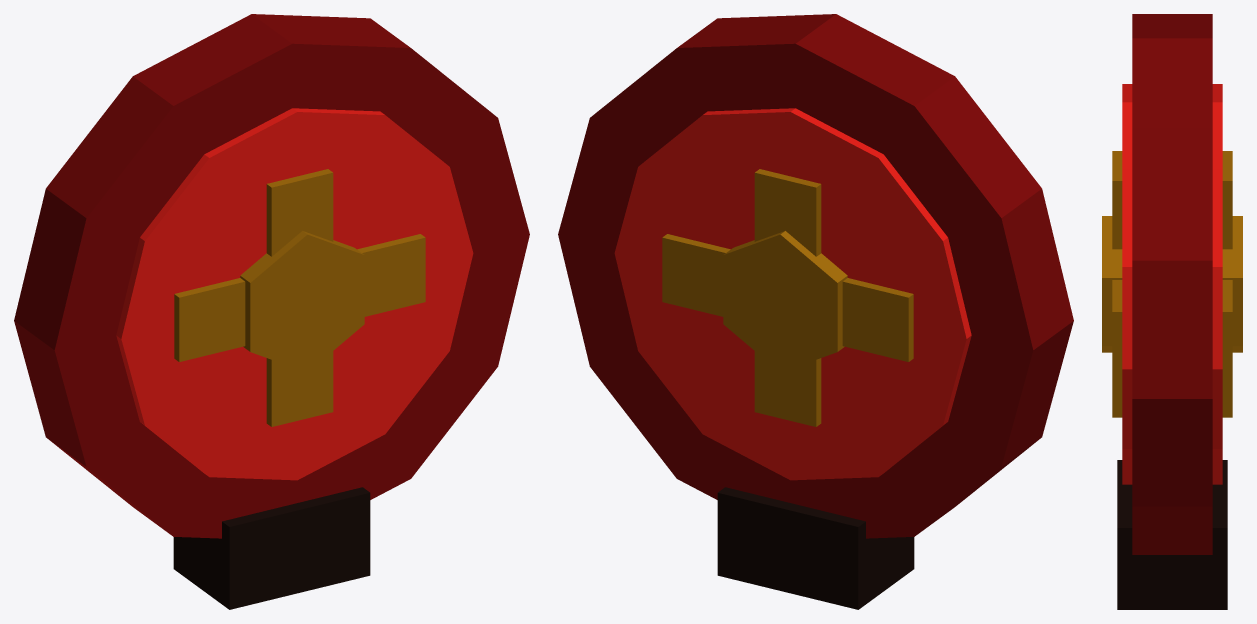
Rendered from SelloSegundoAliento_low.fbx.
3 views of the same model, side by side, from view 1: azimuth 30°, elevation 25°; view 2: azimuth 150°, elevation 25°; view 3: azimuth 270°, elevation 25° (orthographic).
Visible parts, largest first — view 1: SelloSegundoAliento_low; view 2: SelloSegundoAliento_low; view 3: SelloSegundoAliento_low.
Part boxes in pixels (x1,y1,x2,y2): SelloSegundoAliento_low: (14,14,529,609); SelloSegundoAliento_low: (558,14,1073,609); SelloSegundoAliento_low: (1102,14,1242,609).
Bounding box in the file's own units: 54 × 59 × 14.
